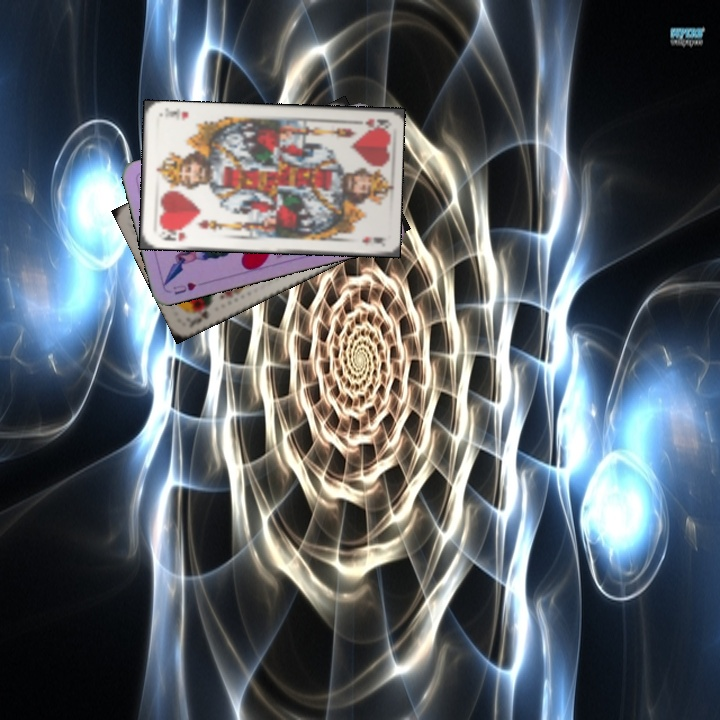HK: (347, 115, 388, 131), (155, 225, 189, 244)
HU: (169, 278, 199, 297)
SK: (194, 299, 216, 324)
